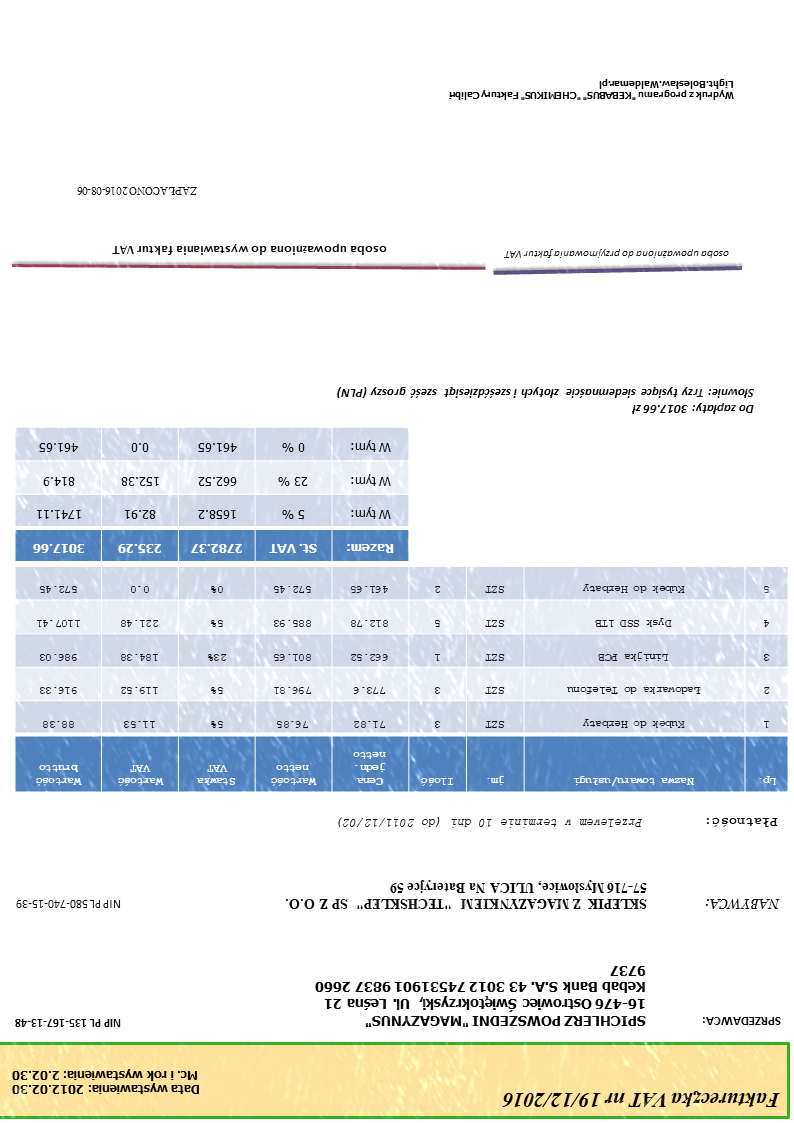Table: (13, 564, 790, 795), (14, 426, 410, 562)
TextBox: (312, 963, 649, 1031), (335, 383, 757, 418), (285, 878, 649, 913), (446, 78, 736, 104), (500, 1087, 782, 1112), (336, 813, 645, 833), (10, 1068, 202, 1099), (112, 241, 390, 259), (502, 245, 732, 262), (75, 183, 201, 200), (14, 895, 123, 912), (11, 1016, 123, 1032), (703, 895, 783, 915), (702, 1013, 783, 1030), (702, 815, 780, 831)
